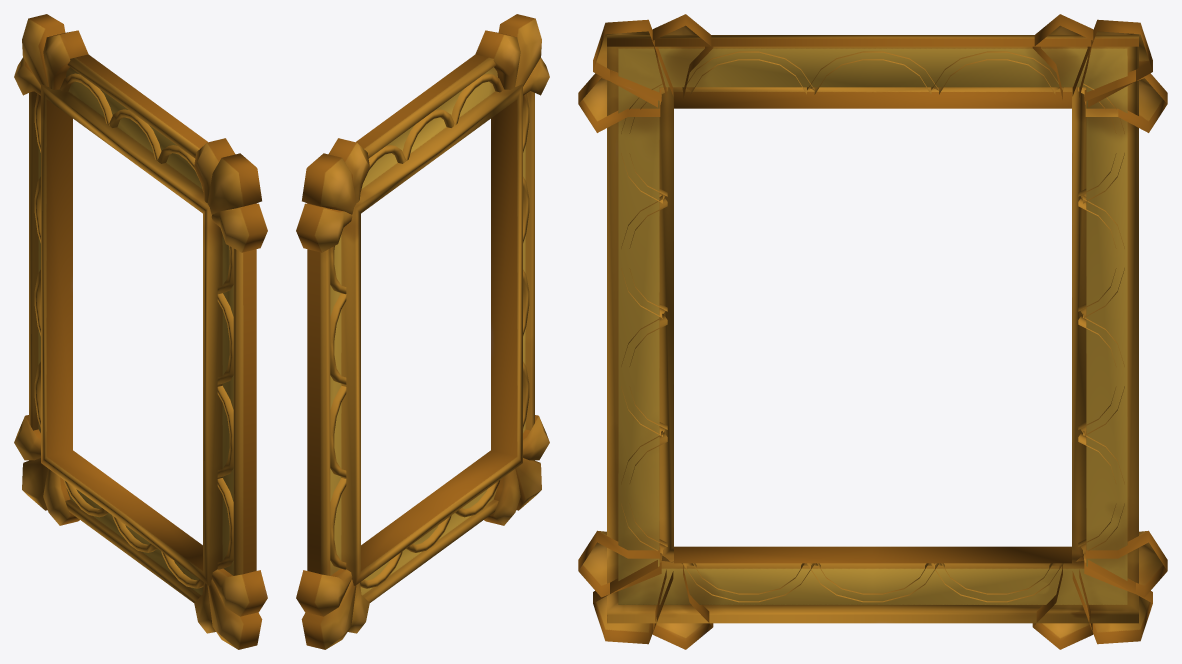
The model's file is Marco.fbx.
3 renders of one model, left to right at view 1: azimuth 30°, elevation 25°; view 2: azimuth 150°, elevation 25°; view 3: azimuth 270°, elevation 25°, orthographic. The views are drawn at different scales.
Parts seen in each view (by area): view 1: Obj_Marco; view 2: Obj_Marco; view 3: Obj_Marco.
Boxes of the visible parts, bbox=[...] form: Obj_Marco: bbox=[14, 14, 267, 649]; Obj_Marco: bbox=[296, 14, 549, 649]; Obj_Marco: bbox=[578, 14, 1167, 649].
Bounding box in the file's own units: 3.96 × 57.98 × 49.58.
